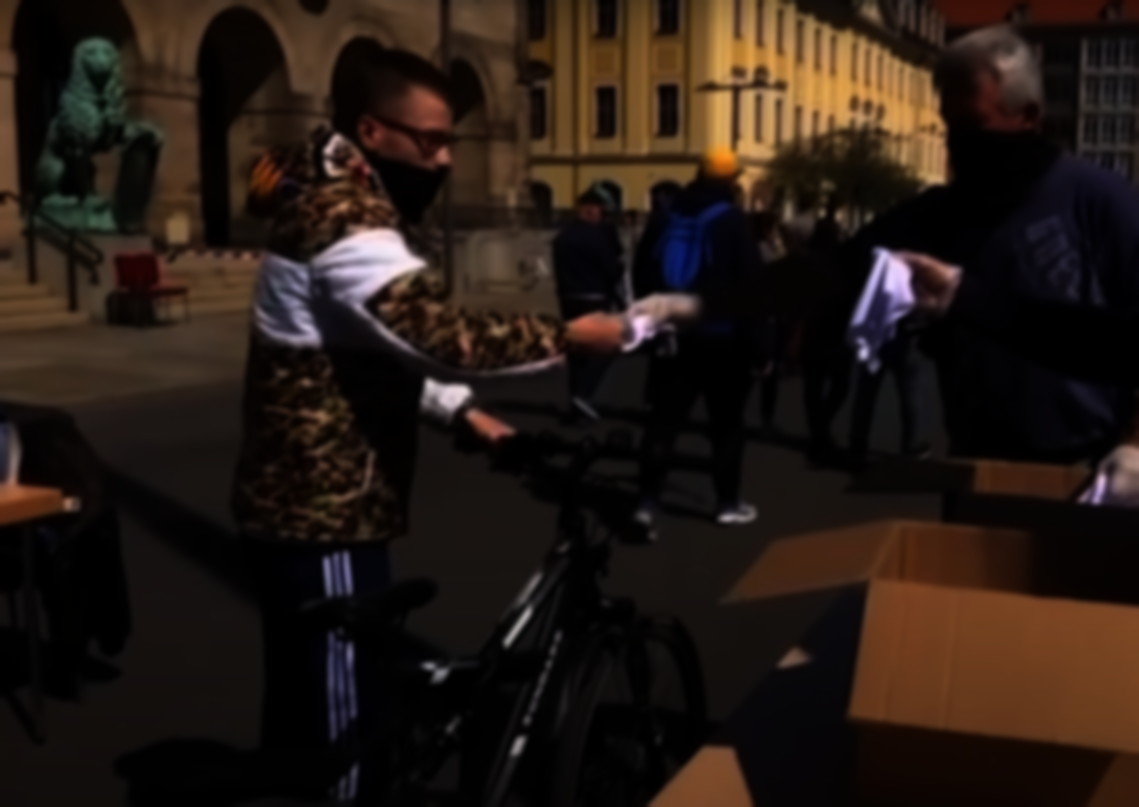mask_weared_incorrect: (334, 47, 461, 222)
